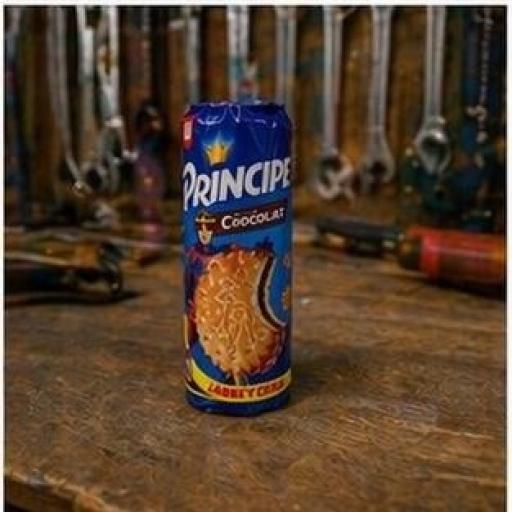prince: (131, 74, 370, 432)
